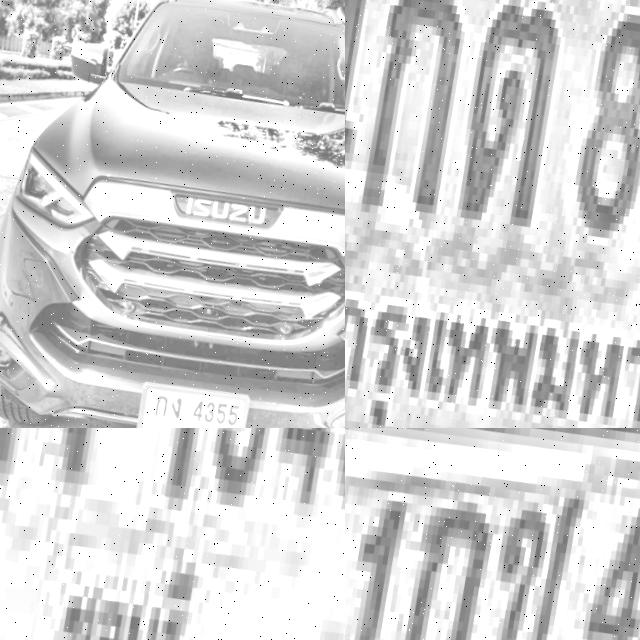license-plate: (345, 0, 640, 428), (0, 428, 345, 640), (345, 428, 640, 640), (124, 368, 253, 428)
